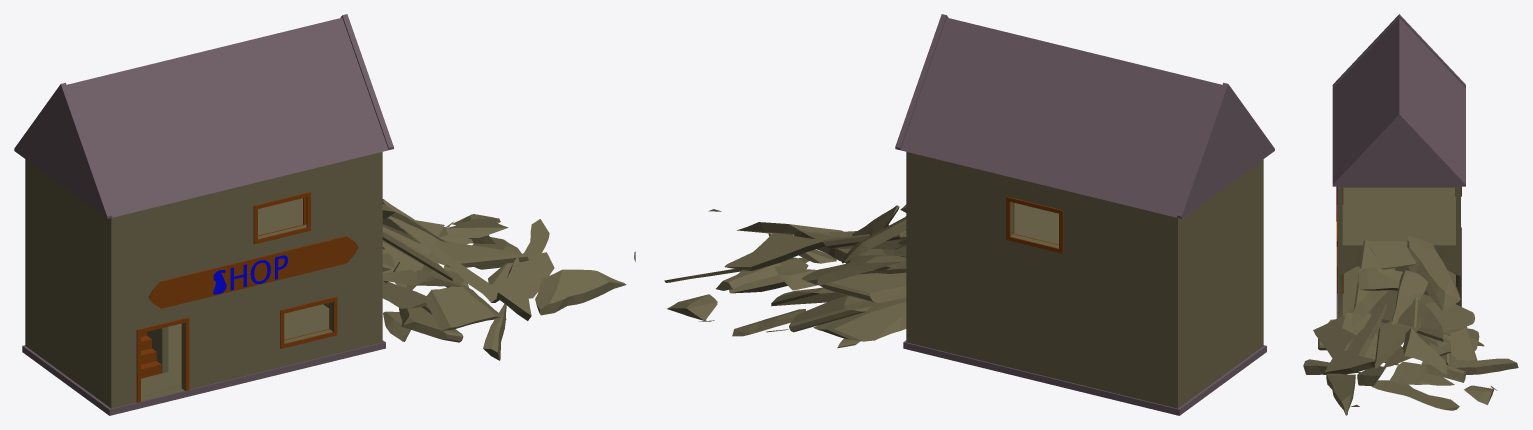
The model's file is house5.fbx.
3 renders of one model, left to right at view 1: azimuth 30°, elevation 25°; view 2: azimuth 150°, elevation 25°; view 3: azimuth 270°, elevation 25°, orthographic. The views are drawn at different scales.
Visible parts, largest first — view 1: pCube14; view 2: pCube14; view 3: pCube14.
Boxes of the visible parts, bbox=[...] form: pCube14: bbox=[14, 14, 635, 415]; pCube14: bbox=[664, 14, 1274, 415]; pCube14: bbox=[1303, 14, 1518, 415].
Size of the model in its own units: 1699 by 951 by 808.
